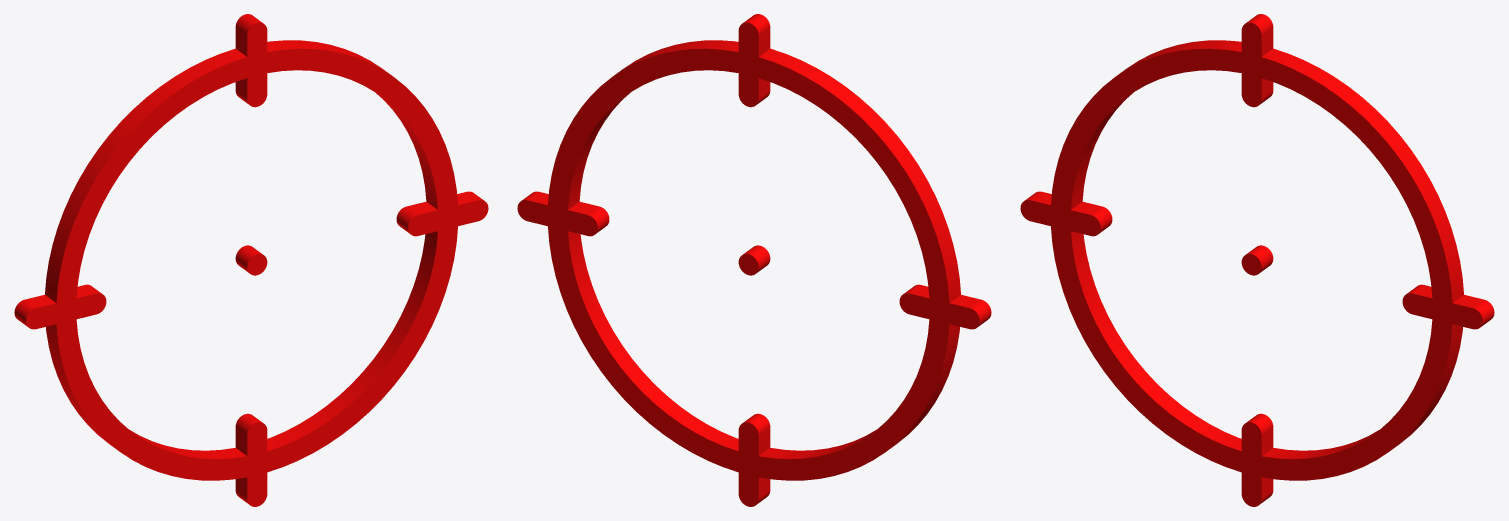
Rendered from Cursor.obj.
3 views of the same model, side by side, from view 1: azimuth 30°, elevation 25°; view 2: azimuth 150°, elevation 25°; view 3: azimuth 330°, elevation 25° (orthographic).
Parts seen in each view (by area): view 1: Cursor\Ring, Cursor\Point; view 2: Cursor\Ring, Cursor\Point; view 3: Cursor\Ring, Cursor\Point.
Boxes of the visible parts, x1,y1,x2,y2 form: Cursor\Ring: [14, 14, 488, 506]; Cursor\Point: [235, 245, 267, 275]; Cursor\Ring: [517, 14, 991, 506]; Cursor\Point: [738, 245, 770, 275]; Cursor\Ring: [1020, 14, 1494, 506]; Cursor\Point: [1241, 245, 1273, 275].
Size of the model in its own units: 0.0115 by 0.0115 by 0.0005.
